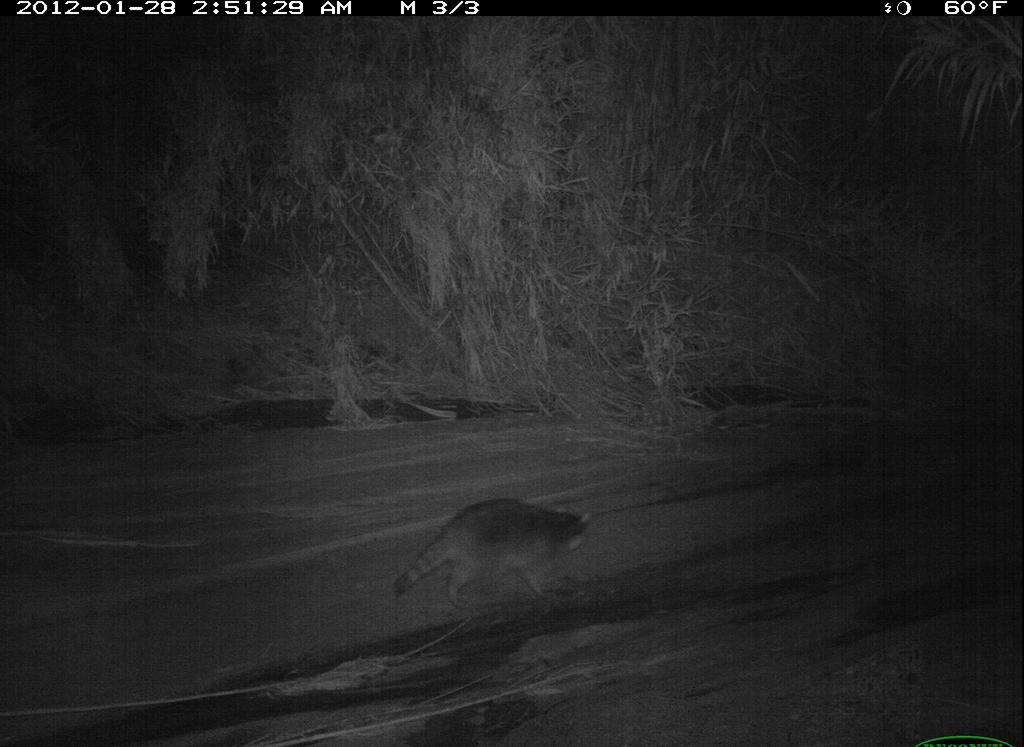raccoon: (354, 473, 633, 635)
